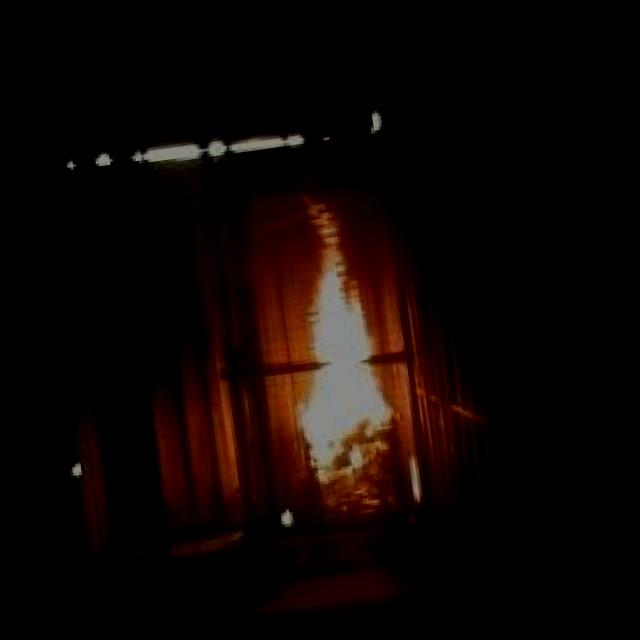fire: (246, 170, 404, 460)
